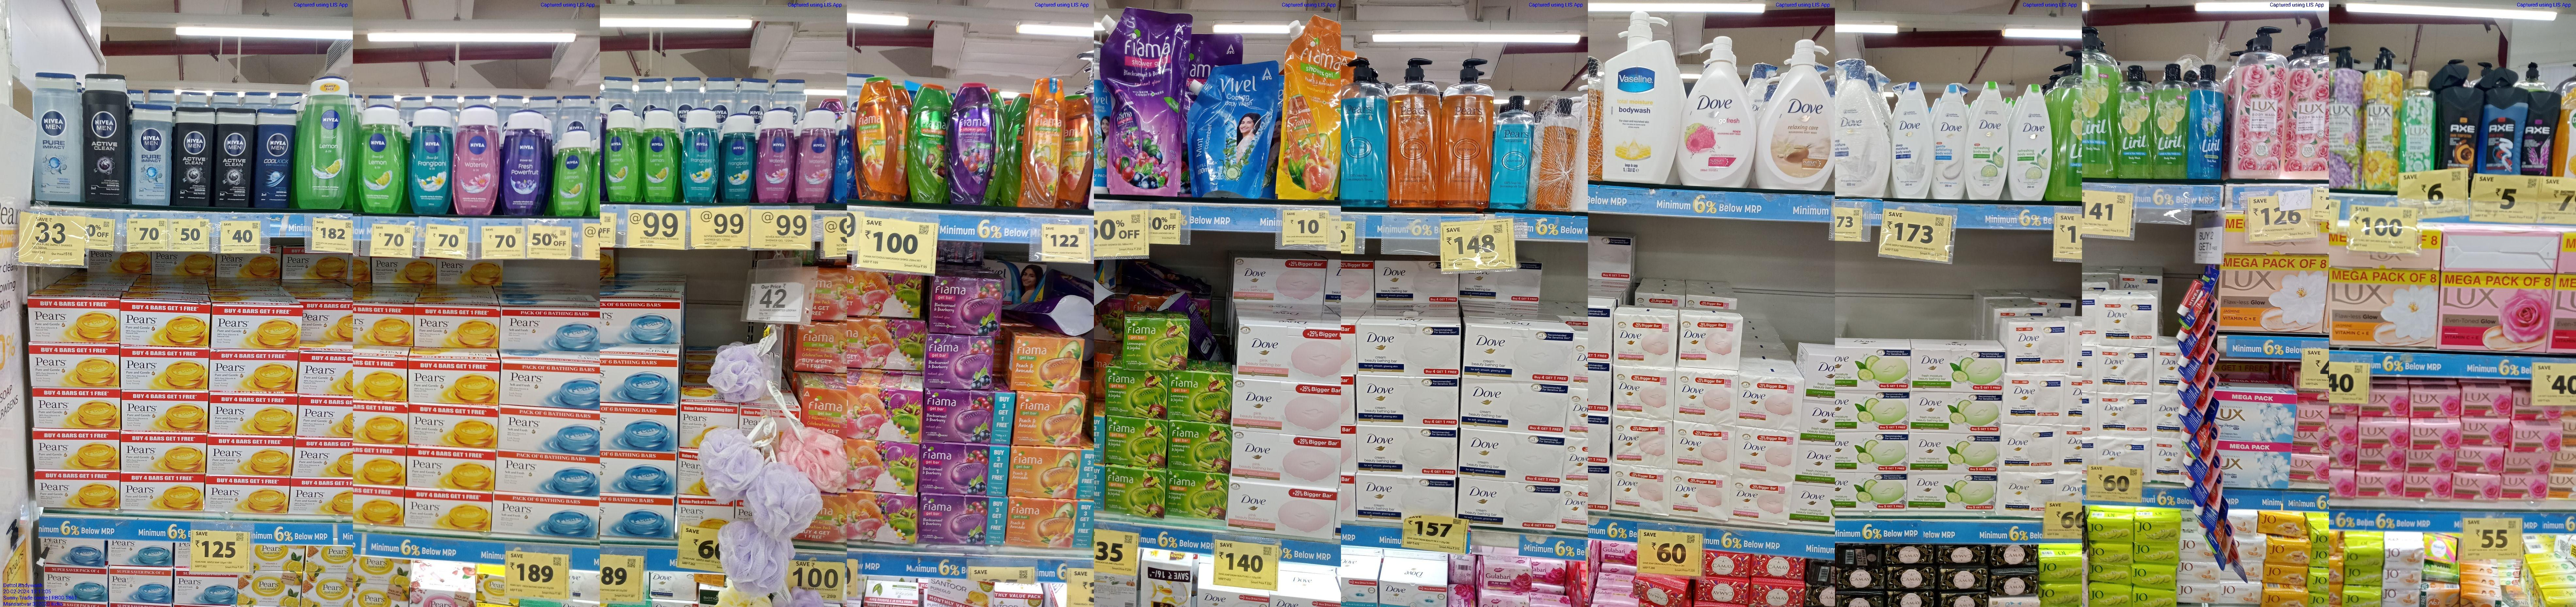Dove_Deep_Moisture_Body_Wash_250ML: (1891, 80, 1932, 200)
Dove_Gentle_Exfoliating_Body_Wash_250ML: (1934, 77, 1965, 199)
Dove_Refreshing_Body_Wash_250ML: (2012, 84, 2052, 203), (1970, 80, 2008, 202)
Fiama_Shower_Gel_Lemongrass_and_Jojoba_250ML: (910, 80, 948, 205)
Fiama_Shower_Gel_Peach_and_Avocado_250ML: (1020, 77, 1065, 212), (854, 74, 897, 203)
Liril_Cooling_Mint_Body_Wash_250ML: (2192, 61, 2224, 180)
Liril_Lime_and_Tea_Tree_Oil_Body_Wash_250ML: (2155, 64, 2190, 180), (2119, 66, 2154, 180)
Nivea_Shower_Gel_Frangipani_and_Oil_250ML: (409, 108, 452, 215), (682, 107, 720, 203), (721, 110, 754, 203)
Nivea_Shower_Gel_Fresh_Powerfruit_250ML: (503, 112, 547, 217)
Nivea_Shower_Gel_Lemon_and_Oil_250ML: (294, 69, 353, 210), (358, 107, 404, 213), (641, 107, 678, 203), (555, 125, 591, 218), (605, 112, 639, 203)
Nivea_Shower_Gel_Waterlily_and_Oil_250ML: (455, 105, 499, 217), (795, 107, 833, 207), (757, 115, 793, 203)
Pears_Pure_Glycerin_and_Mint_Extracts_Body_Wash_250ML: (1492, 95, 1531, 212), (1531, 92, 1533, 92)
